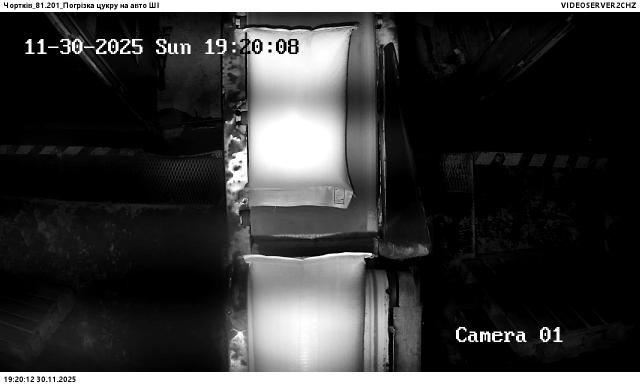bag: (246, 26, 354, 208), (245, 252, 371, 371)
